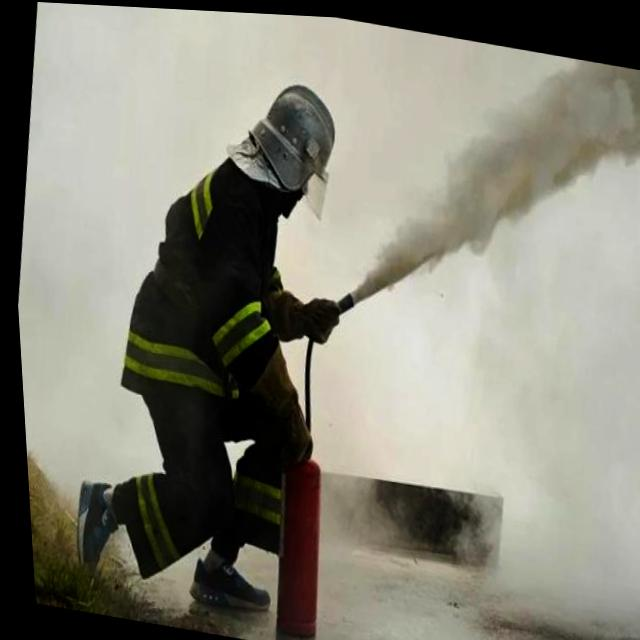FireExtinguisher: (238, 267, 373, 640)
